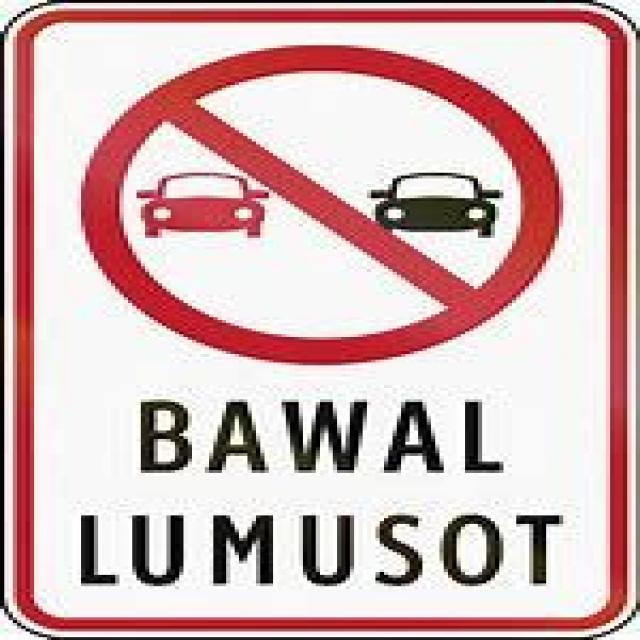OVERTAKING_PROHIBITED: (77, 45, 554, 362)
